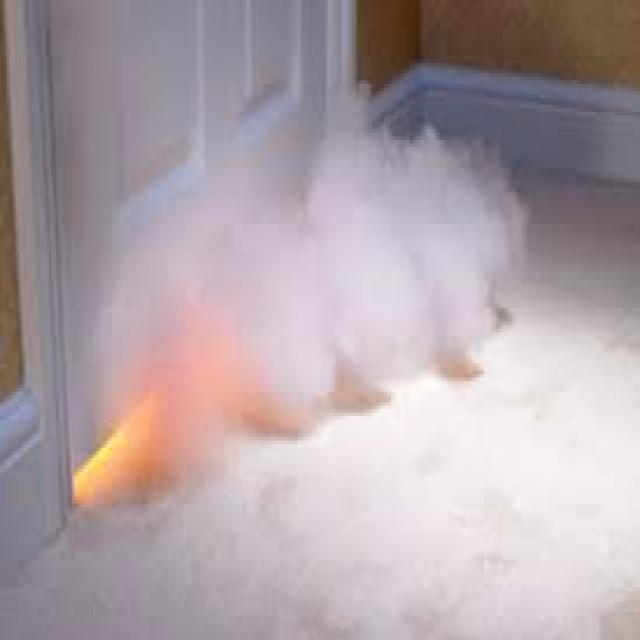Fire: (71, 433, 130, 505)
Smoke: (104, 84, 520, 432)
